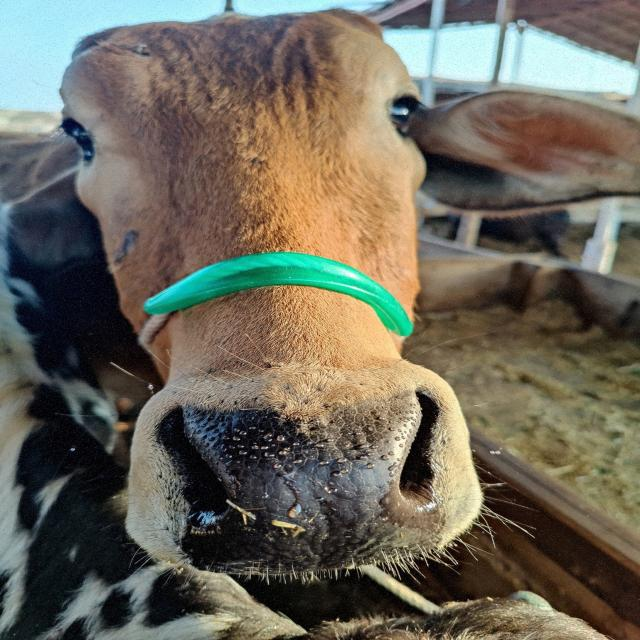muzzles: (157, 389, 453, 580)
